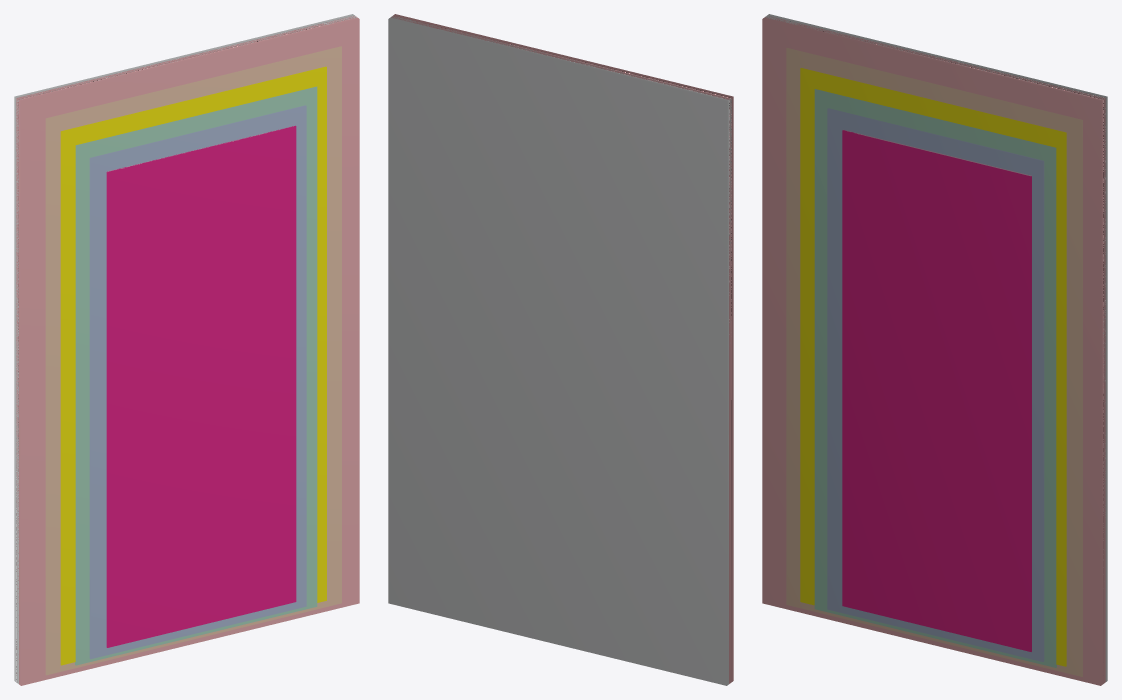
Rendered from espelho.fbx.
3 renders of one model, left to right at view 1: azimuth 30°, elevation 25°; view 2: azimuth 150°, elevation 25°; view 3: azimuth 330°, elevation 25°, orthographic.
Parts seen in each view (by area): view 1: rosa, vermelho_001, laranja_001, azul_001, verde_001, amarelo_001, fundocinza, rosa_002; view 2: fundocinza, vermelho_001; view 3: rosa, vermelho_001, laranja_001, azul_001, verde_001, amarelo_001, fundocinza, rosa_002.
Part boxes in pixels (box(x1,y1,x2,y2)): rosa: box(106, 125, 296, 647); vermelho_001: box(16, 16, 359, 685); laranja_001: box(45, 46, 341, 675); azul_001: box(89, 105, 306, 659); verde_001: box(75, 86, 317, 665); amarelo_001: box(60, 66, 326, 665); fundocinza: box(14, 14, 356, 683); rosa_002: box(106, 126, 293, 647); fundocinza: box(388, 16, 731, 685); vermelho_001: box(391, 14, 733, 683); rosa: box(842, 130, 1031, 651); vermelho_001: box(762, 16, 1105, 685); laranja_001: box(786, 48, 1082, 676); azul_001: box(827, 108, 1044, 661); verde_001: box(814, 89, 1056, 667); amarelo_001: box(800, 68, 1066, 666); fundocinza: box(765, 14, 1107, 681); rosa_002: box(843, 129, 1031, 651).
Size of the model in its own units: 4.45 by 7.35 by 0.2278.
